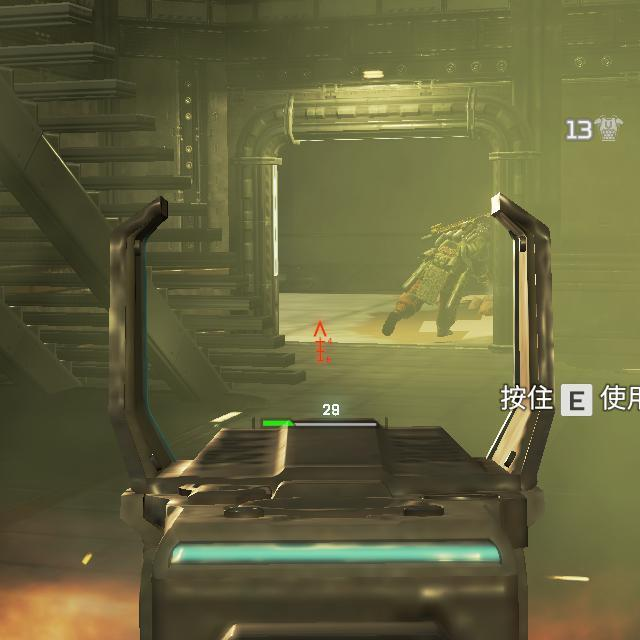avatar: (382, 213, 493, 337)
